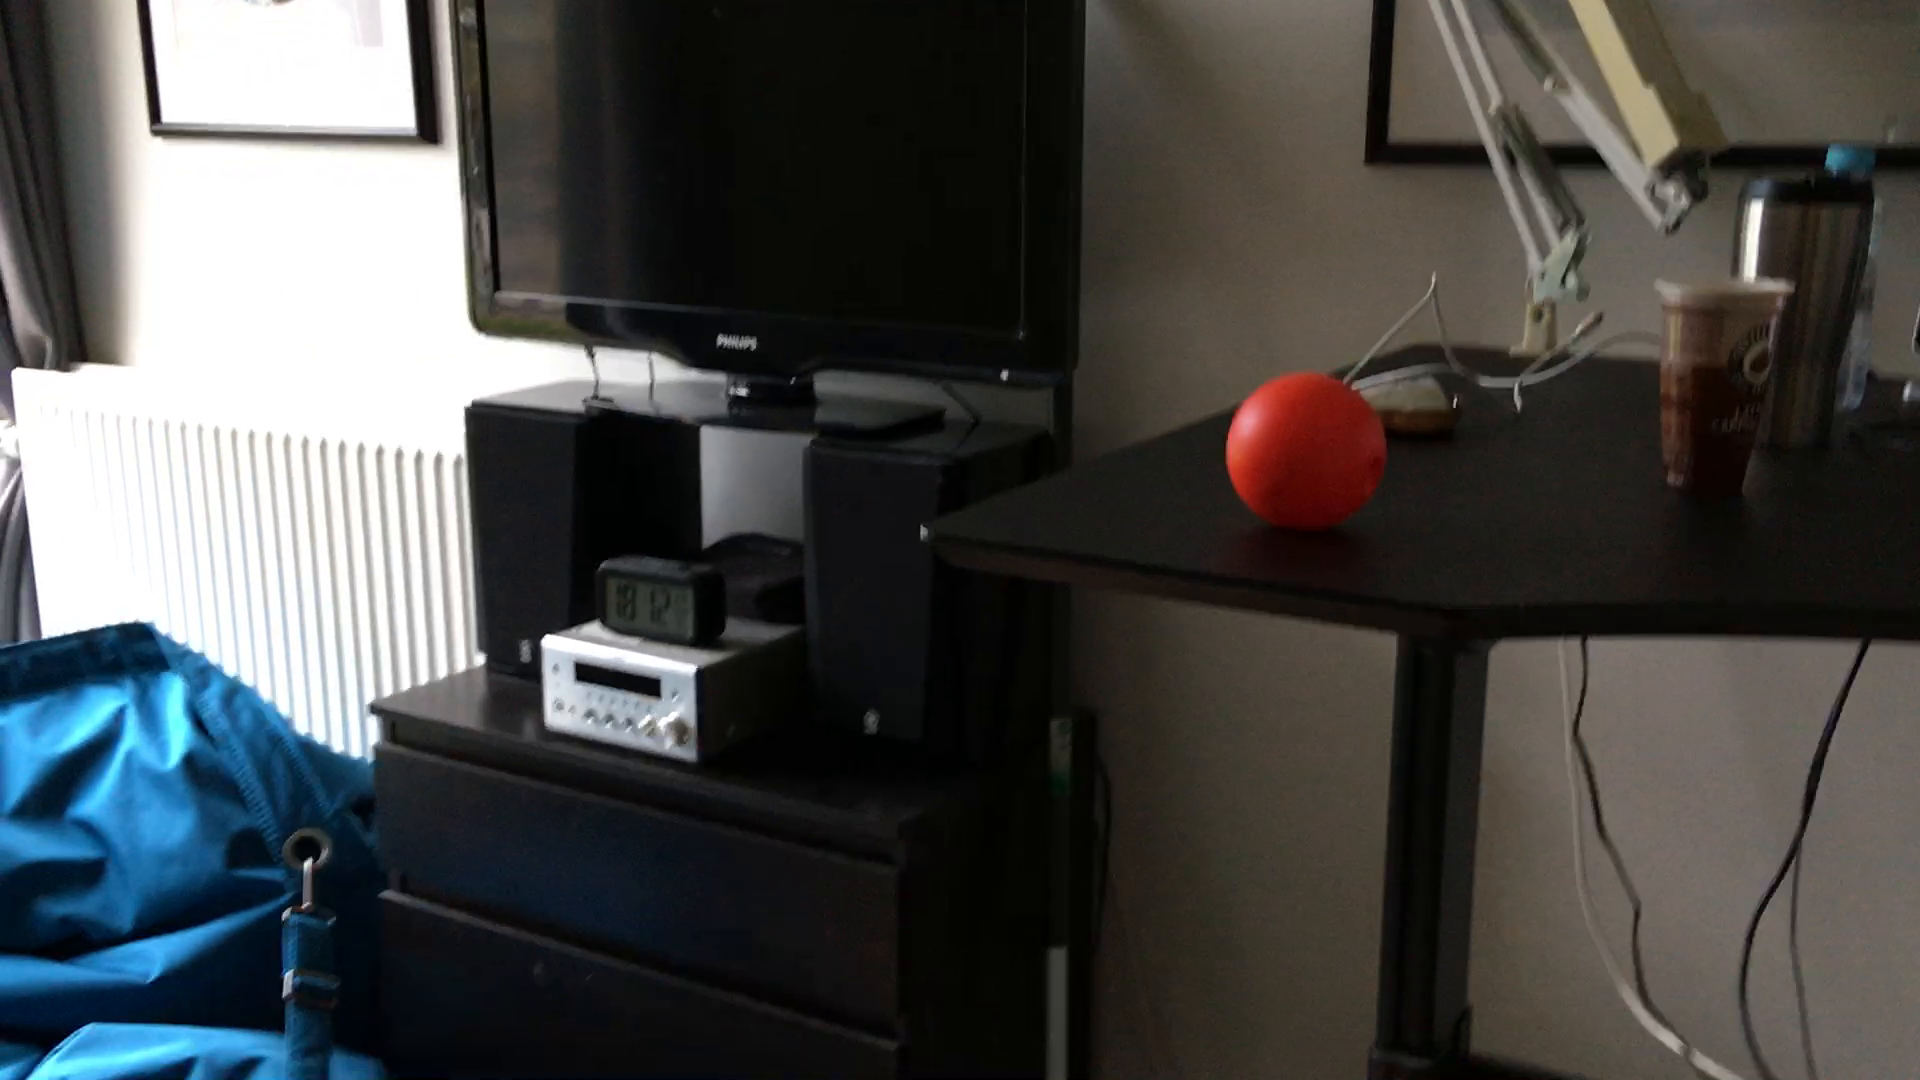Ball: (1222, 372, 1390, 535)
